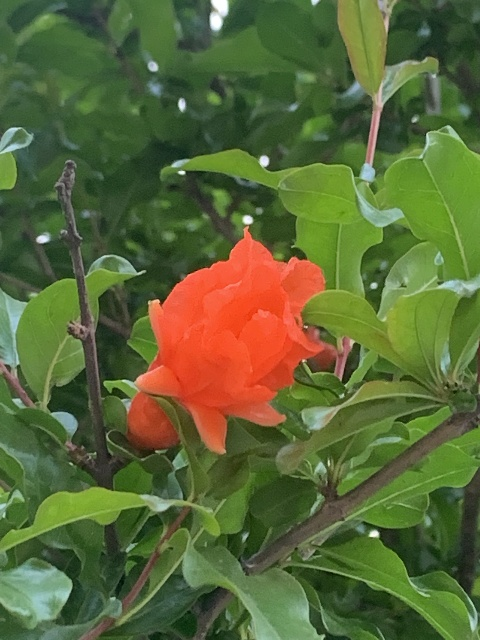flower: (126, 225, 340, 453)
